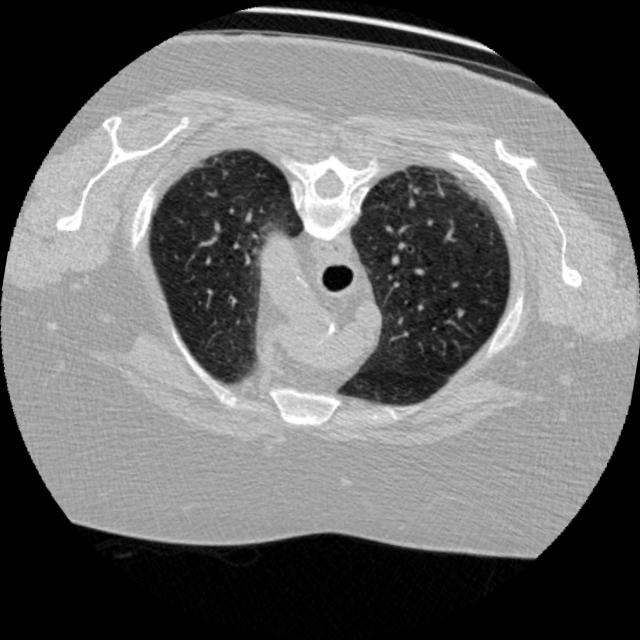nodule: (449, 302, 472, 324)
